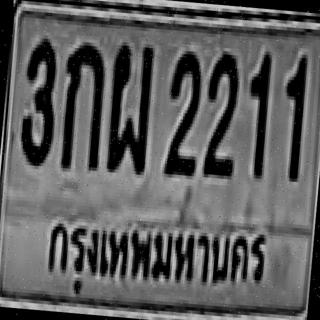A01: (57, 39, 105, 169)
A28: (102, 40, 153, 173)
N01: (277, 51, 306, 180), (242, 49, 270, 177)
N02: (162, 48, 202, 174), (200, 49, 240, 172)
N03: (18, 34, 60, 164)
P04: (38, 203, 272, 310)
